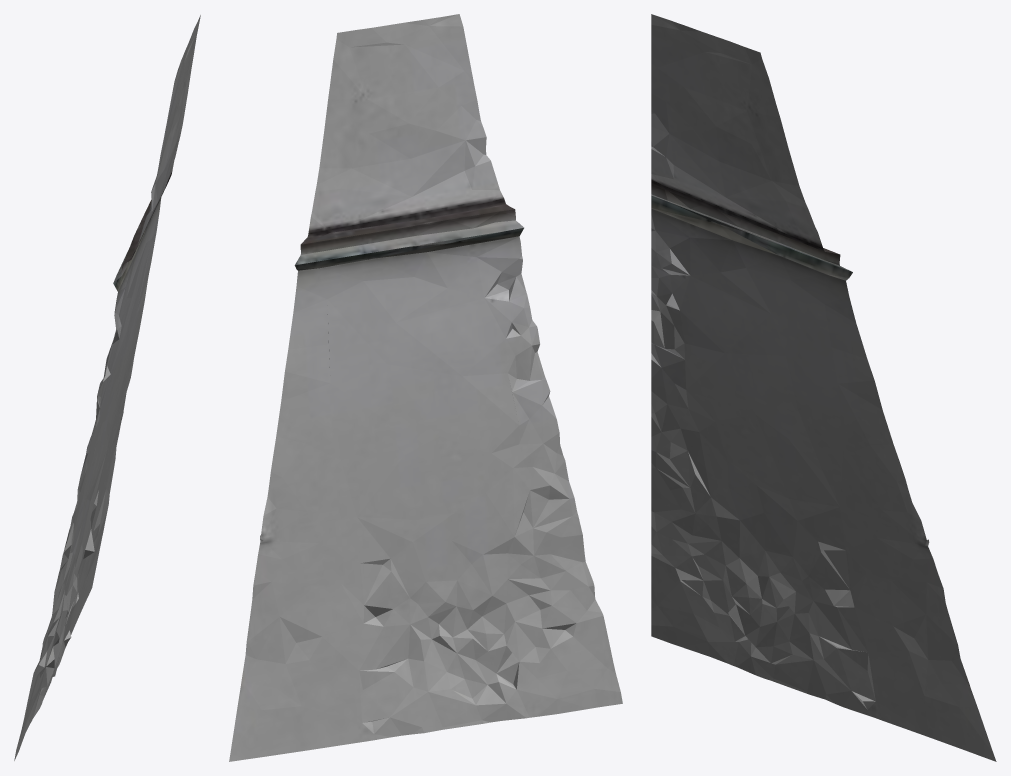
3 views of the same model, side by side, from view 1: azimuth 30°, elevation 25°; view 2: azimuth 150°, elevation 25°; view 3: azimuth 270°, elevation 25° (orthographic). The views are drawn at different scales.
Size of the model in its own units: 1.27 by 3.35 by 1.48.
Materials: 1 (1 with a texture image).
